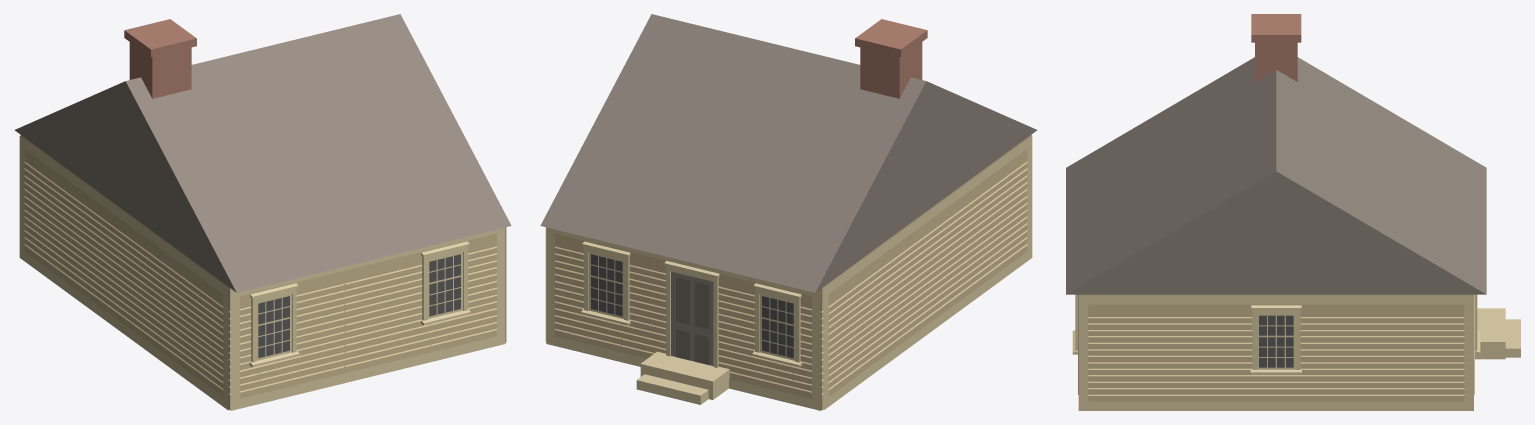
The model's file is recon_1835_north_d4_004__inferred_1835.glb.
The picture shows the model from 3 angles, left to right: view 1: azimuth 30°, elevation 25°; view 2: azimuth 150°, elevation 25°; view 3: azimuth 270°, elevation 25°; orthographic projection. The views are drawn at different scales.
Visible parts, largest first — view 1: recon_1835_north_d4_004__inferred_1835; view 2: recon_1835_north_d4_004__inferred_1835; view 3: recon_1835_north_d4_004__inferred_1835.
Part boxes in pixels (box(x1,y1,x2,y2)): recon_1835_north_d4_004__inferred_1835: box(14, 14, 511, 410); recon_1835_north_d4_004__inferred_1835: box(540, 14, 1037, 410); recon_1835_north_d4_004__inferred_1835: box(1066, 14, 1520, 410).
Bounding box in the file's own units: 6.03 × 5.94 × 8.9.
